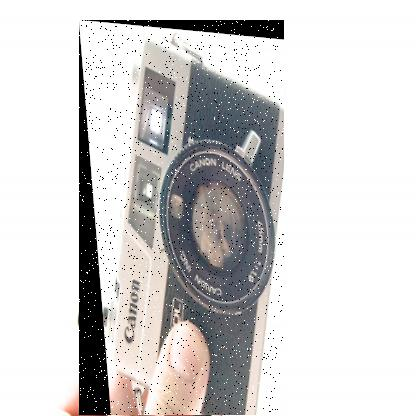Camera: (80, 21, 286, 416)
